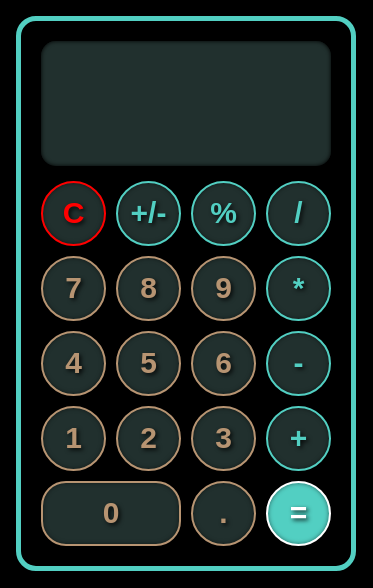
Calculator › Calculate 2 / 0 -> ERROR
Click the button "2" at (148, 438), box top-left (116, 406), bottom-right (181, 470)
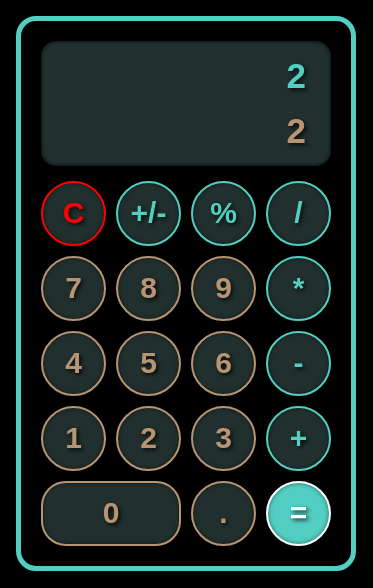
Click the button "/" at (298, 213), box top-left (266, 180), bottom-right (331, 246)
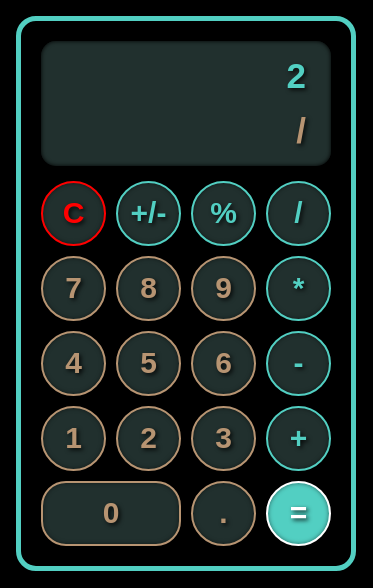
Click the button "0" at (111, 513), box top-left (41, 480), bottom-right (181, 546)
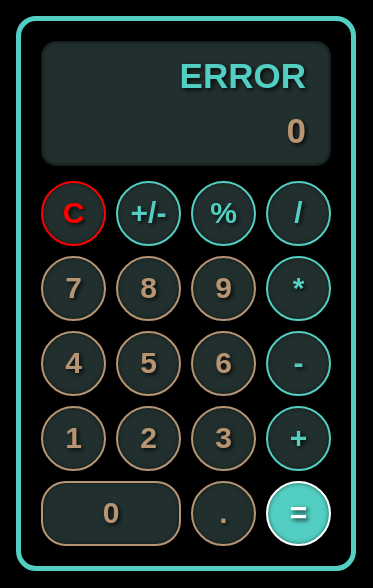
Check: the text "ERROR" is shown, box top-left (180, 56), bottom-right (306, 96)
